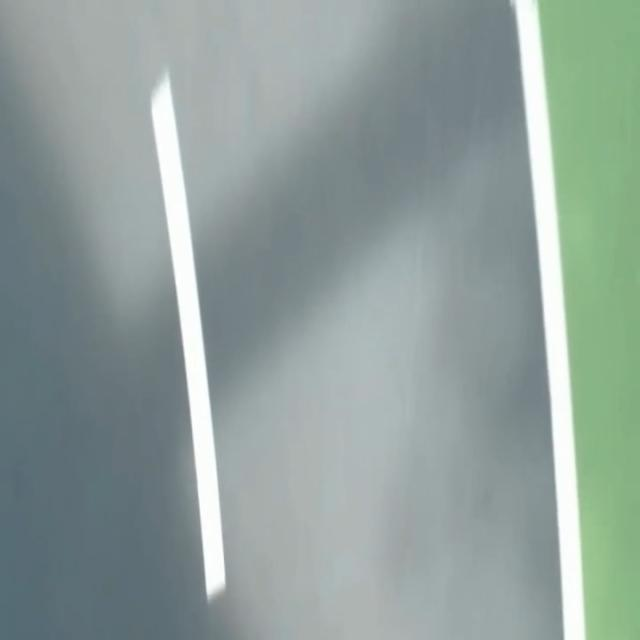center: (151, 73, 226, 602)
right: (512, 0, 585, 639)
